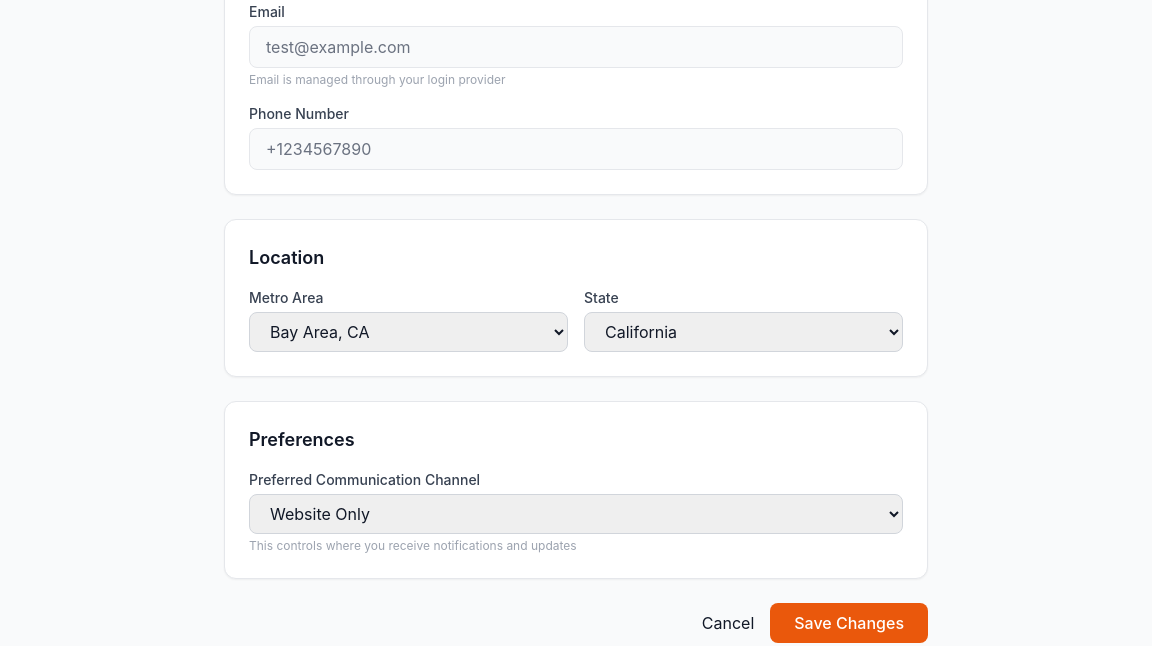
EditProfilePage › Failed Submission › shows error message from API response on failed submission
The width and height of the screenshot is (1152, 646).
(page scrolled)
Click the button "Save Changes": [849, 623] box top-left (770, 603), bottom-right (928, 643)
(page scrolled)
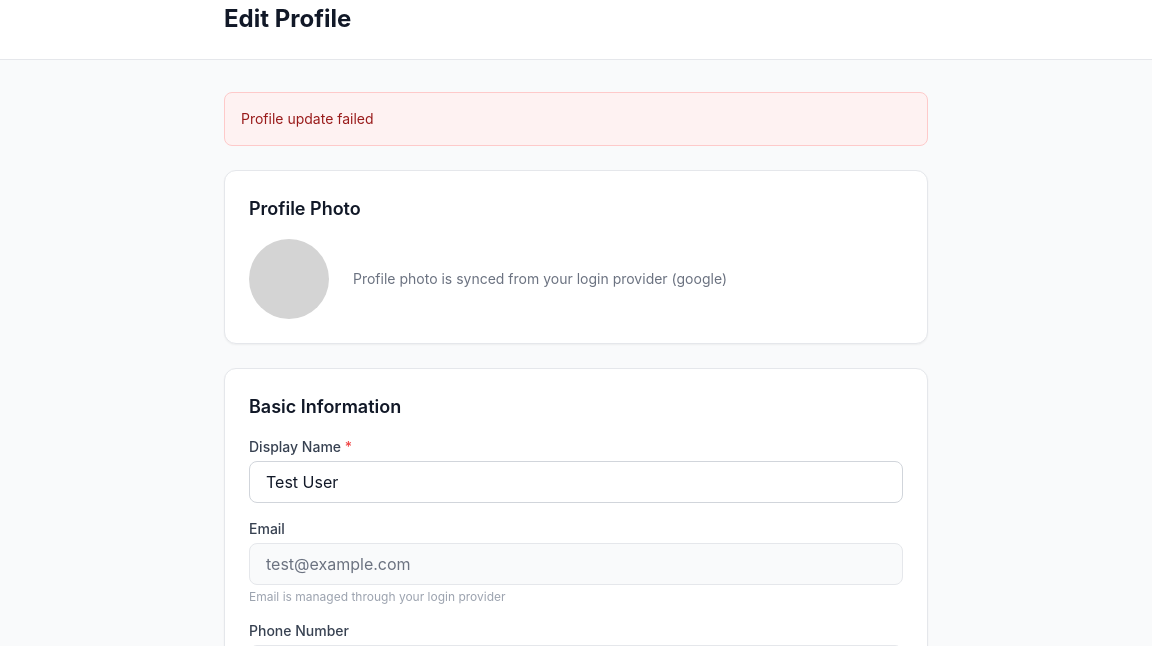
Result: the text "Profile update failed" is shown at top-left (224, 92), bottom-right (928, 146)
